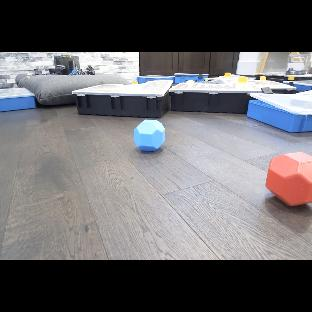V5_BLUE: (133, 119, 166, 153)
V5_RED: (266, 152, 312, 208)
